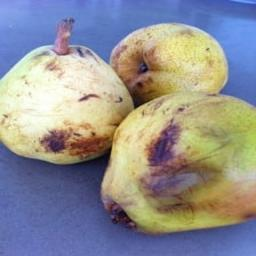Pear Semirotten: (100, 91, 256, 239), (1, 14, 129, 165), (103, 15, 231, 103)
